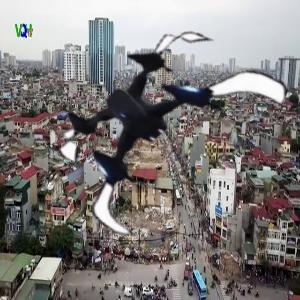drone: (40, 19, 265, 244)
